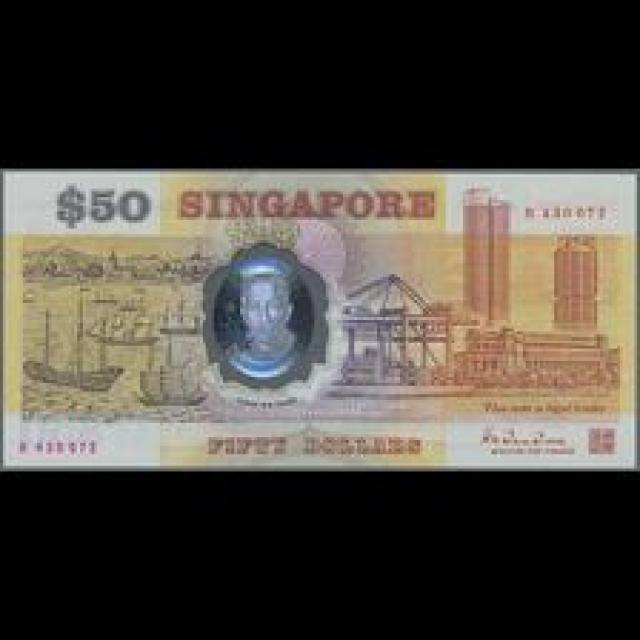banknote: (0, 166, 637, 471), (200, 424, 437, 466), (45, 178, 161, 235)
